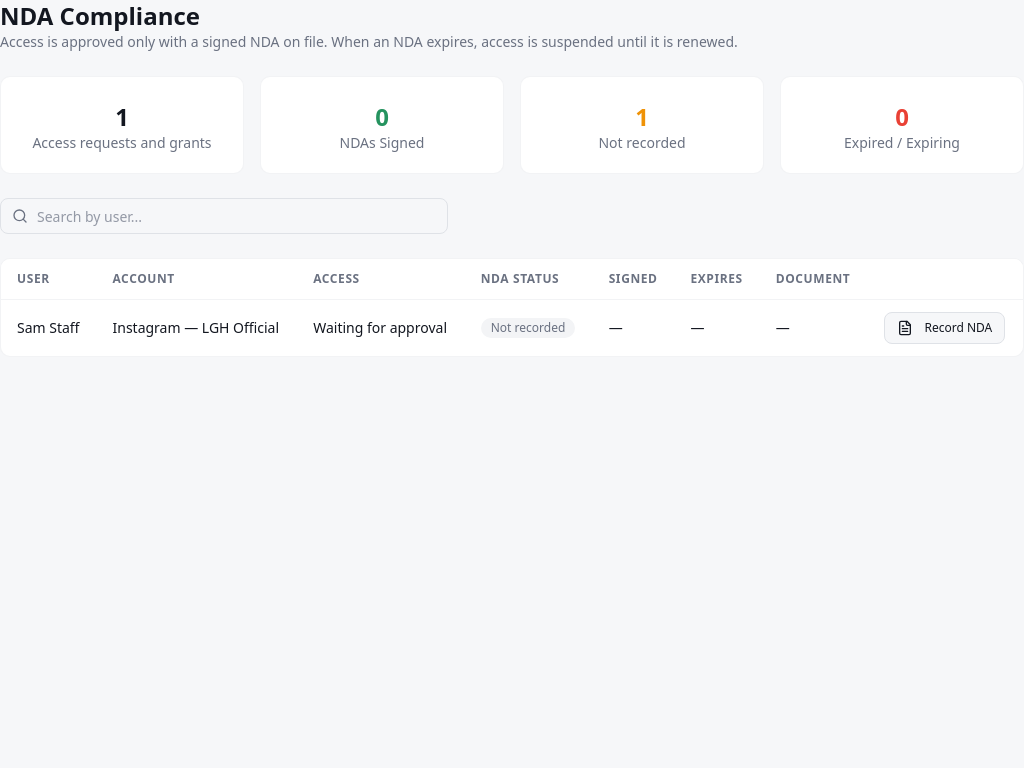
Test: NDA Compliance › recording an NDA needs the signed document
Later steps or results of the test are not shown.
Click the button "Record NDA". click: [944, 328]
box: [884,312,1005,344]
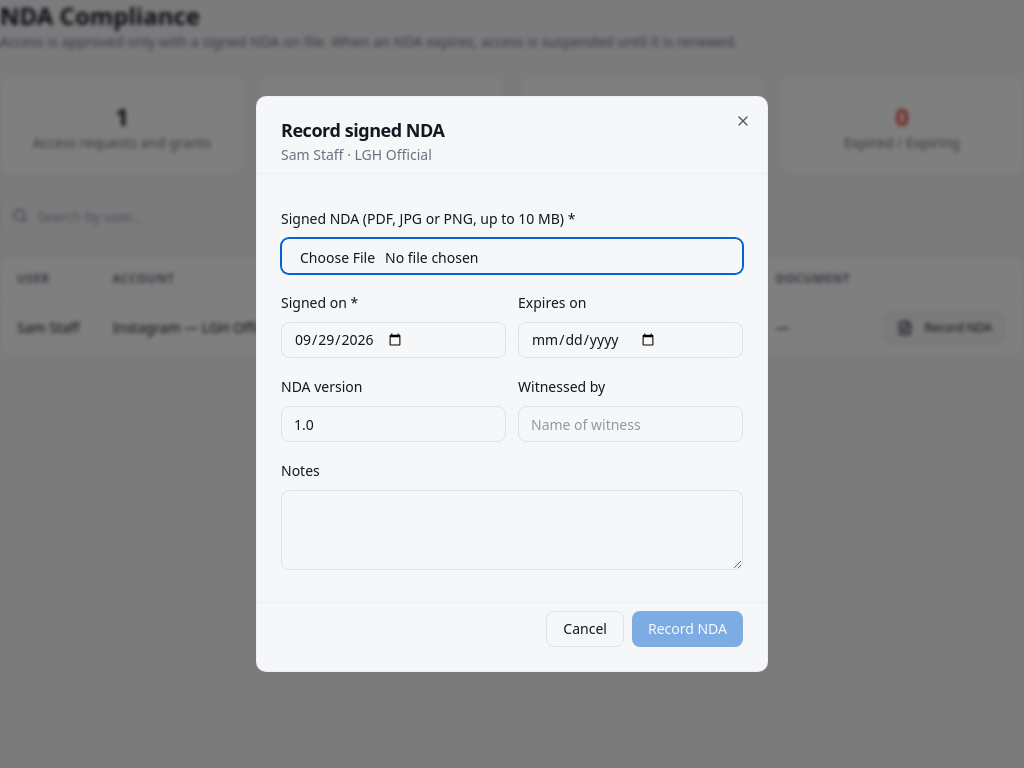
expect the button "Record NDA" is disabled: met, box [632,611,743,647]
